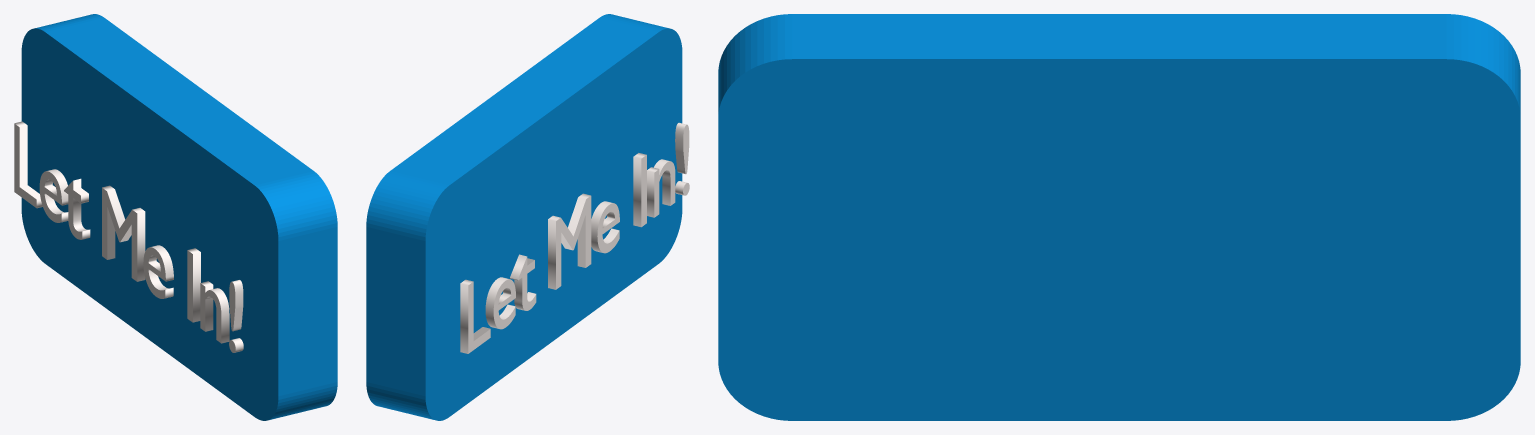
3 renders of one model, left to right at view 1: azimuth 30°, elevation 25°; view 2: azimuth 150°, elevation 25°; view 3: azimuth 270°, elevation 25°, orthographic. The views are drawn at different scales.
Parts seen in each view (by area): view 1: Cube, Text; view 2: Cube, Text; view 3: Cube.
Boxes of the visible parts, bbox=[...] form: Cube: bbox=[21, 14, 337, 420]; Text: bbox=[14, 121, 243, 352]; Cube: bbox=[366, 14, 682, 420]; Text: bbox=[460, 122, 689, 353]; Cube: bbox=[718, 14, 1520, 420].
Size of the model in its own units: 0.7614 by 2 by 4.02.
